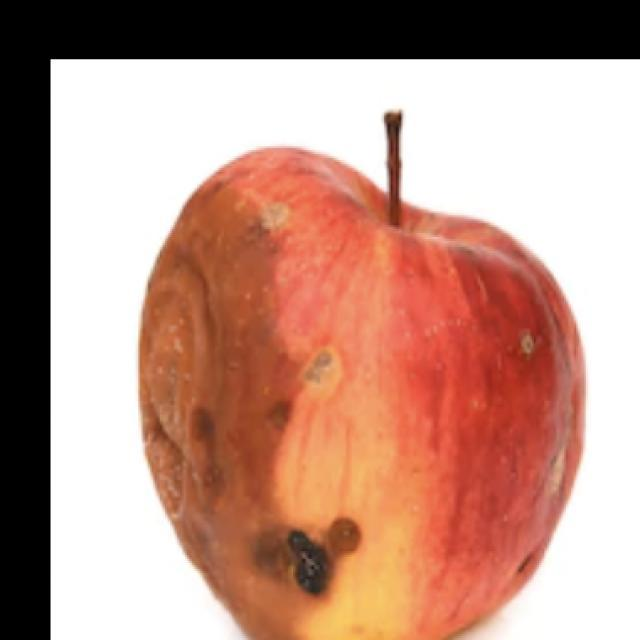Rotten: (118, 155, 582, 640)
